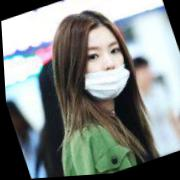WRONG: (68, 29, 136, 106)
